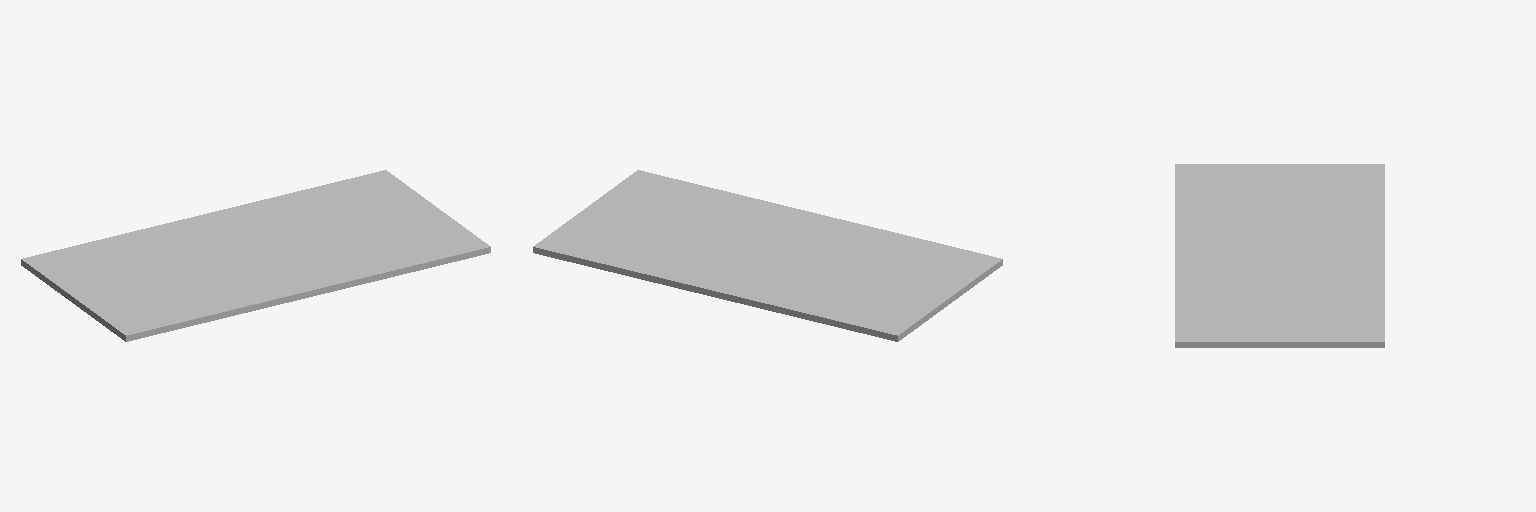
The model's file is floor.obj.
The picture shows the model from 3 angles: view 1: azimuth 30°, elevation 25°; view 2: azimuth 150°, elevation 25°; view 3: azimuth 270°, elevation 25°; orthographic projection.
Visible parts, largest first — view 1: Cube.051_Cube.045; view 2: Cube.051_Cube.045; view 3: Cube.051_Cube.045.
Part boxes in pixels (left/top/right/bottom): Cube.051_Cube.045: left=21, top=170, right=490, bottom=341; Cube.051_Cube.045: left=533, top=170, right=1002, bottom=341; Cube.051_Cube.045: left=1175, top=164, right=1384, bottom=347.
Size of the model in its own units: 12.11 by 0.2 by 6.04.